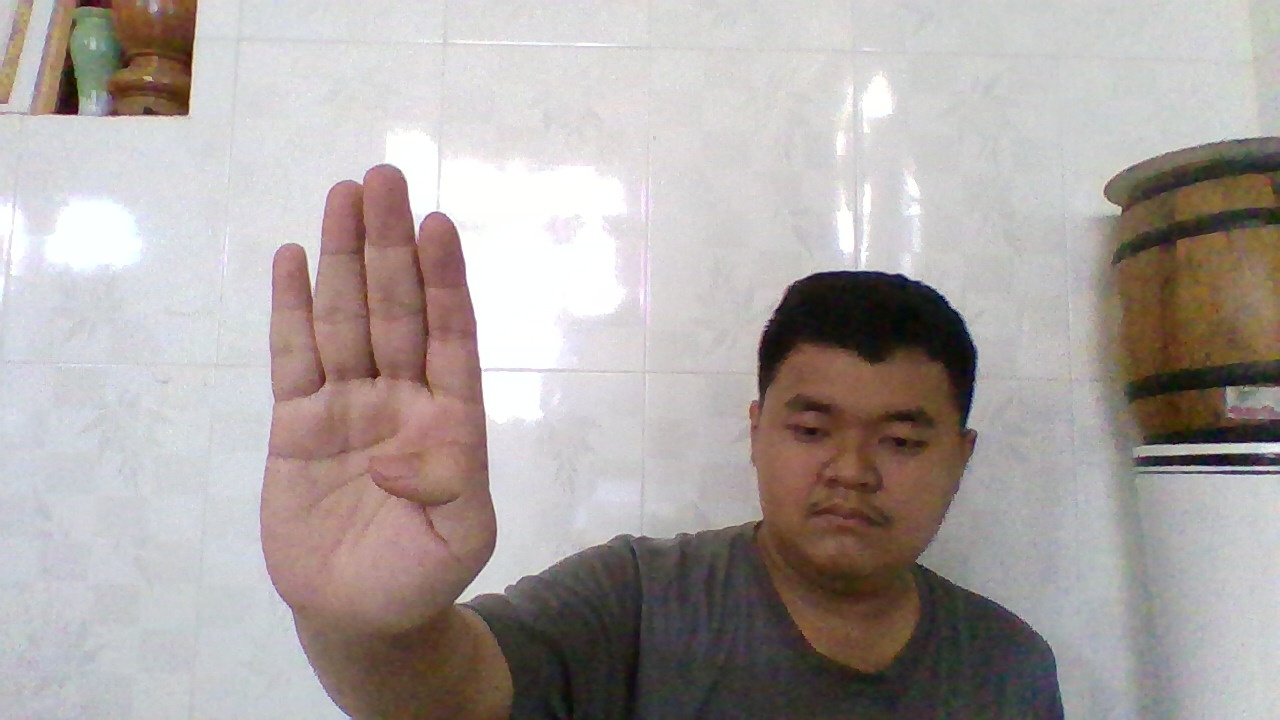B: (267, 166, 490, 642)
